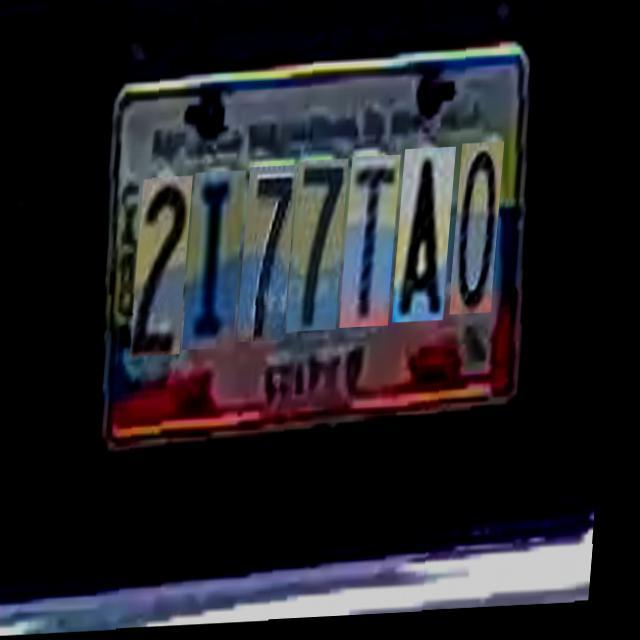2: (136, 175, 197, 356)
7: (291, 161, 351, 334), (242, 165, 300, 342)
A: (397, 150, 459, 327)
I: (187, 170, 249, 350)
O: (454, 147, 507, 320)
T: (345, 157, 404, 330)
